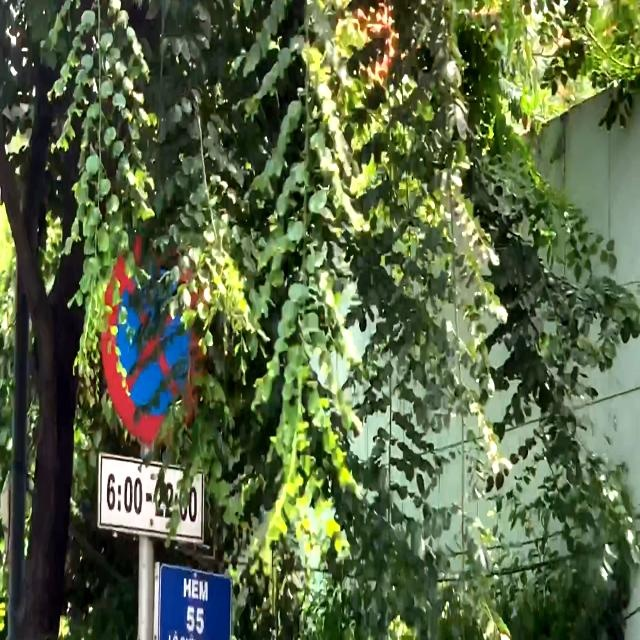bien_cam: (100, 228, 213, 442)
